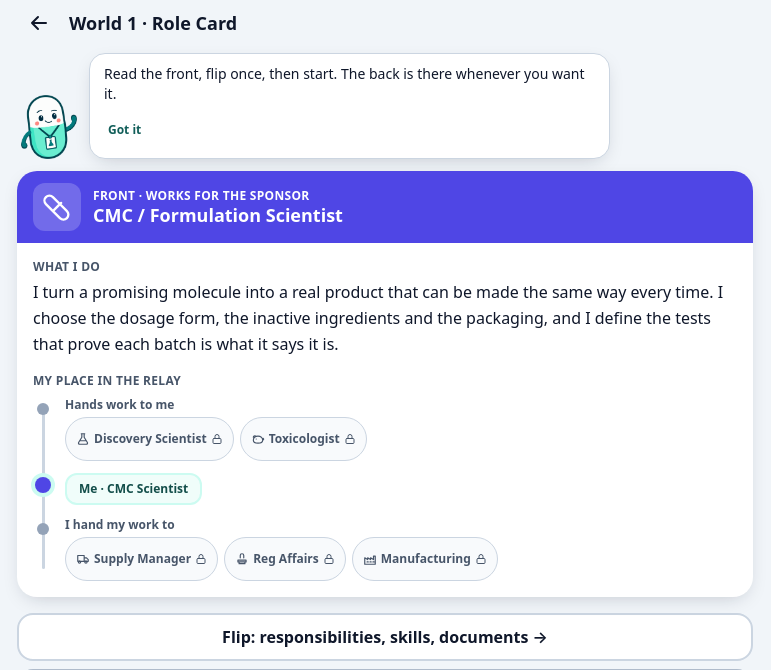
RoleCardScreen gating › shows both faces of the card content
Expected: the heading "What I do" is shown, [33,258,100,275]
Expected: the list with test id "relay" shows "Hands work to me", [65,396,174,413]
Click the button with test id "flip-card" at (385, 637), box [17,613,753,661]
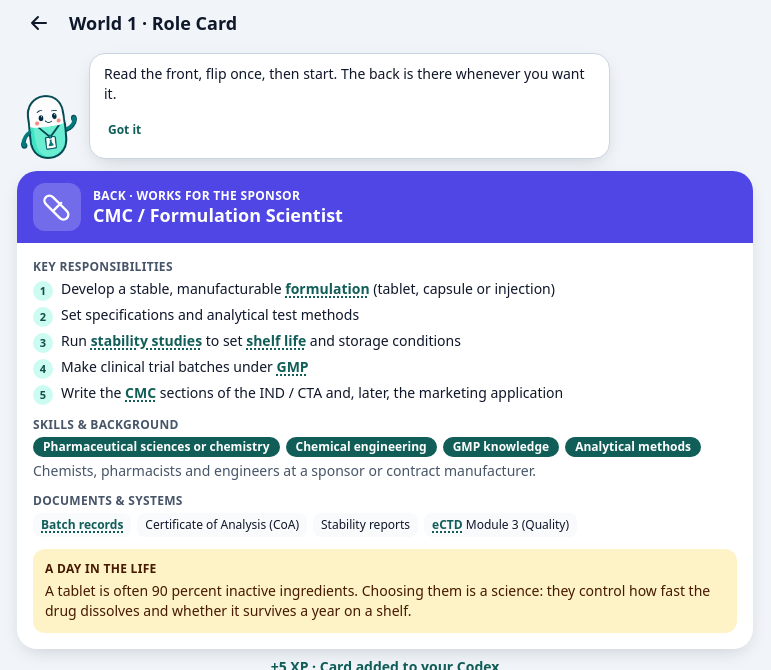
Now the heading "A day in the life" is shown, box [45,560,157,577]
Now the heading "Key responsibilities" is shown, box [33,258,173,275]
